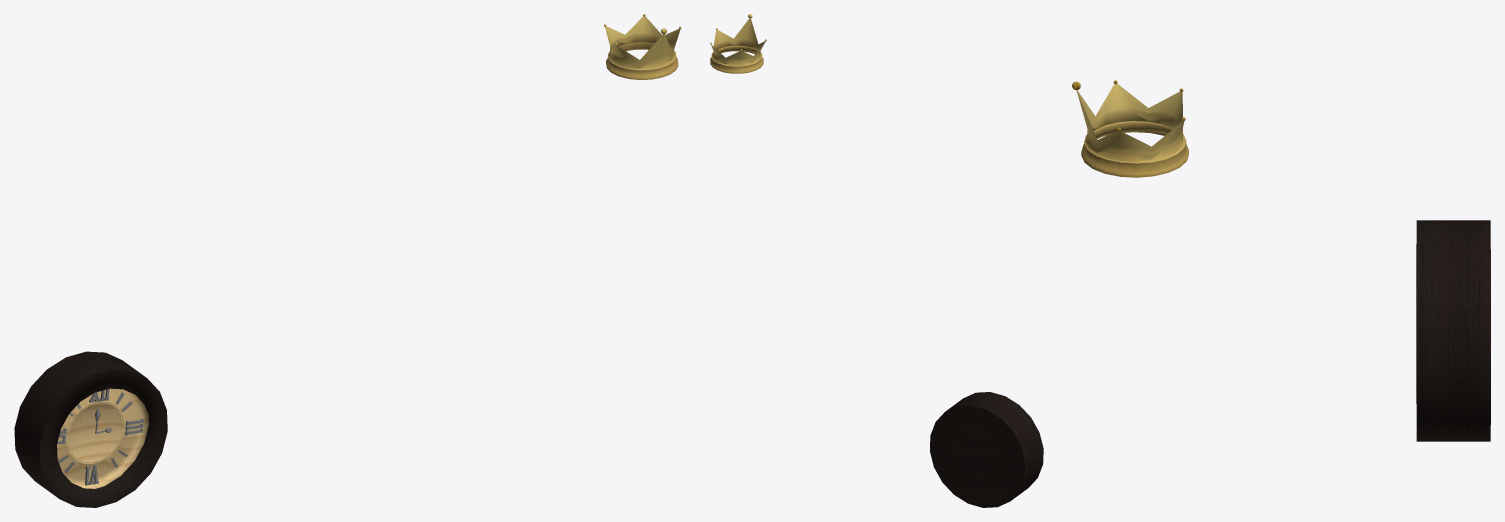
File: P3_Reloj.0002.obj
The picture shows the model from 3 angles, left to right: view 1: azimuth 30°, elevation 25°; view 2: azimuth 150°, elevation 25°; view 3: azimuth 270°, elevation 25°; orthographic projection. The views are drawn at different scales.
Visible parts, largest first — view 1: polySurface8; view 2: polySurface8; view 3: polySurface8.
Boxes of the visible parts, bbox=[...] form: polySurface8: bbox=[14, 14, 681, 507]; polySurface8: bbox=[710, 14, 1043, 507]; polySurface8: bbox=[1072, 80, 1490, 441].
Bounding box in the file's own units: 36.25 × 28.93 × 16.35.
5 materials, 4 textured.
